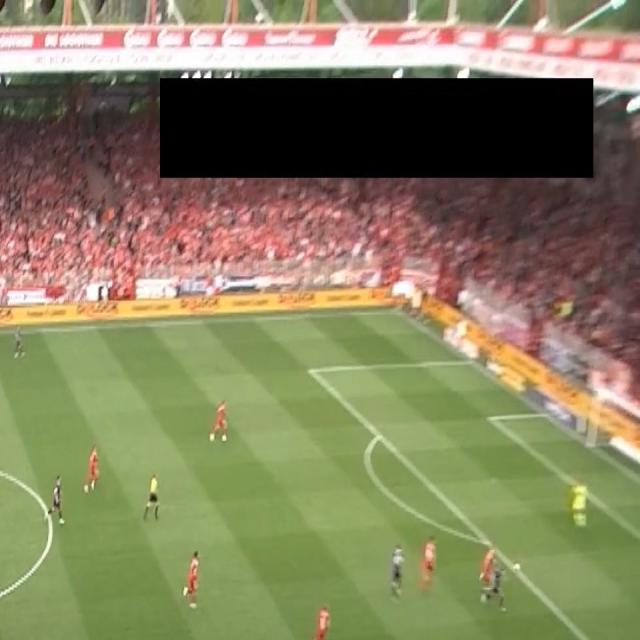ball: (511, 561, 522, 573)
